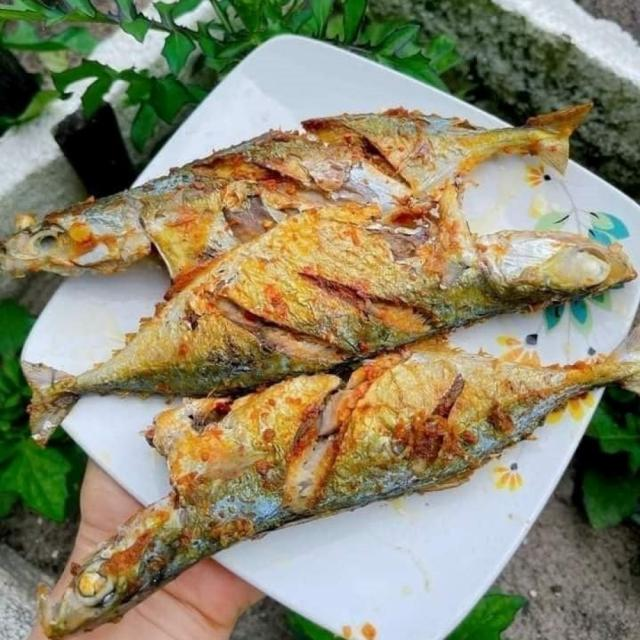ca chien: (45, 340, 635, 635), (21, 206, 636, 440), (0, 105, 588, 277)
